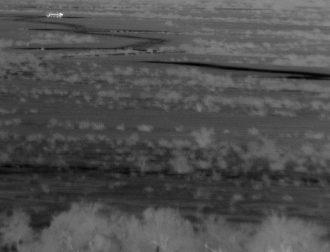Target: (48, 14, 63, 18)
